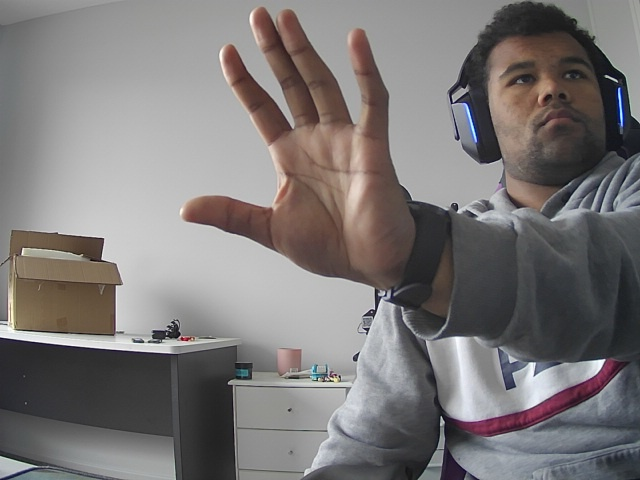Hello: (159, 2, 430, 312)
